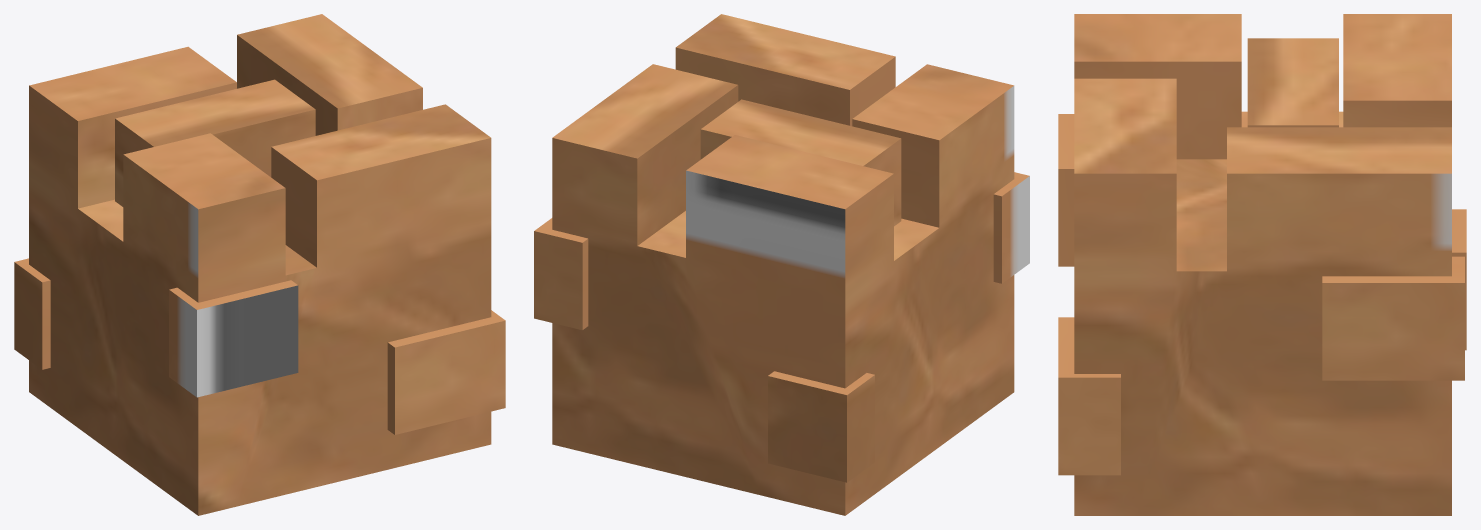
File: Brick_Wall_1x1.fbx
3 views of the same model, side by side, from view 1: azimuth 30°, elevation 25°; view 2: azimuth 150°, elevation 25°; view 3: azimuth 270°, elevation 25° (orthographic). The views are drawn at different scales.
Visible parts, largest first — view 1: Brick_Wall_1x1; view 2: Brick_Wall_1x1; view 3: Brick_Wall_1x1.
Part boxes in pixels (x1,y1,x2,y2): Brick_Wall_1x1: (14, 14, 505, 515); Brick_Wall_1x1: (534, 14, 1029, 515); Brick_Wall_1x1: (1058, 14, 1466, 515).
Size of the model in its own units: 1.07 by 1 by 1.08.
